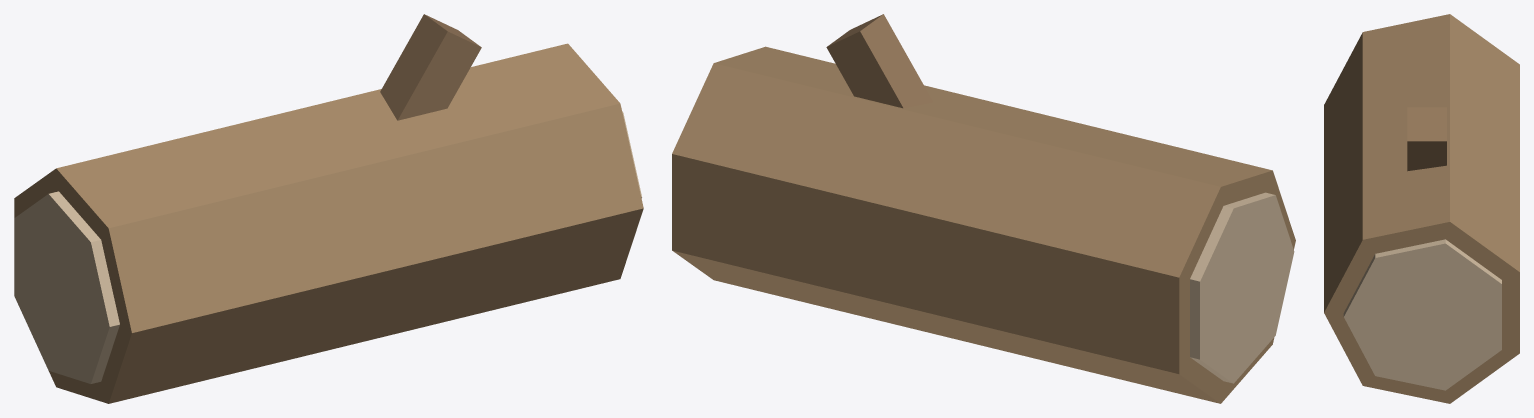
Rendered from llenya-referencia.glb.
3 views of the same model, side by side, from view 1: azimuth 30°, elevation 25°; view 2: azimuth 150°, elevation 25°; view 3: azimuth 270°, elevation 25° (orthographic). The views are drawn at different scales.
Visible parts, largest first — view 1: llenya-1; view 2: llenya-1; view 3: llenya-1.
Boxes of the visible parts, x1,y1,x2,y2 form: llenya-1: (14, 14, 643, 403); llenya-1: (672, 14, 1295, 403); llenya-1: (1324, 14, 1519, 403).
Bounding box in the file's own units: 0.4686 × 0.24 × 0.1795.
